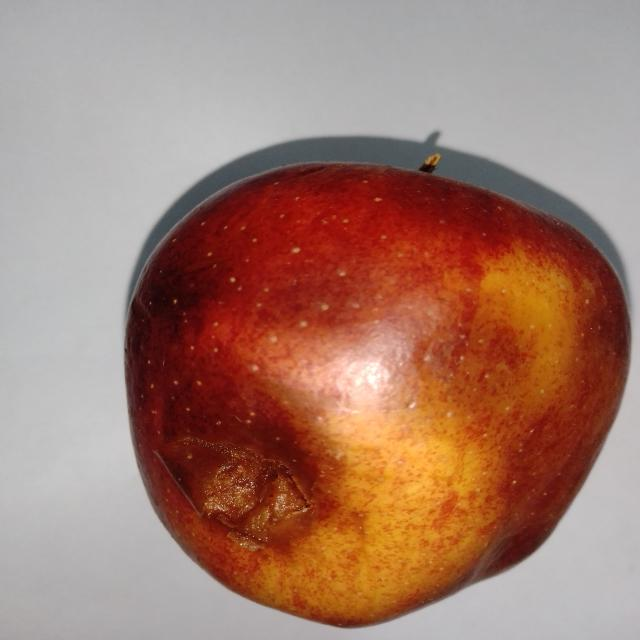apple: (126, 164, 630, 626)
